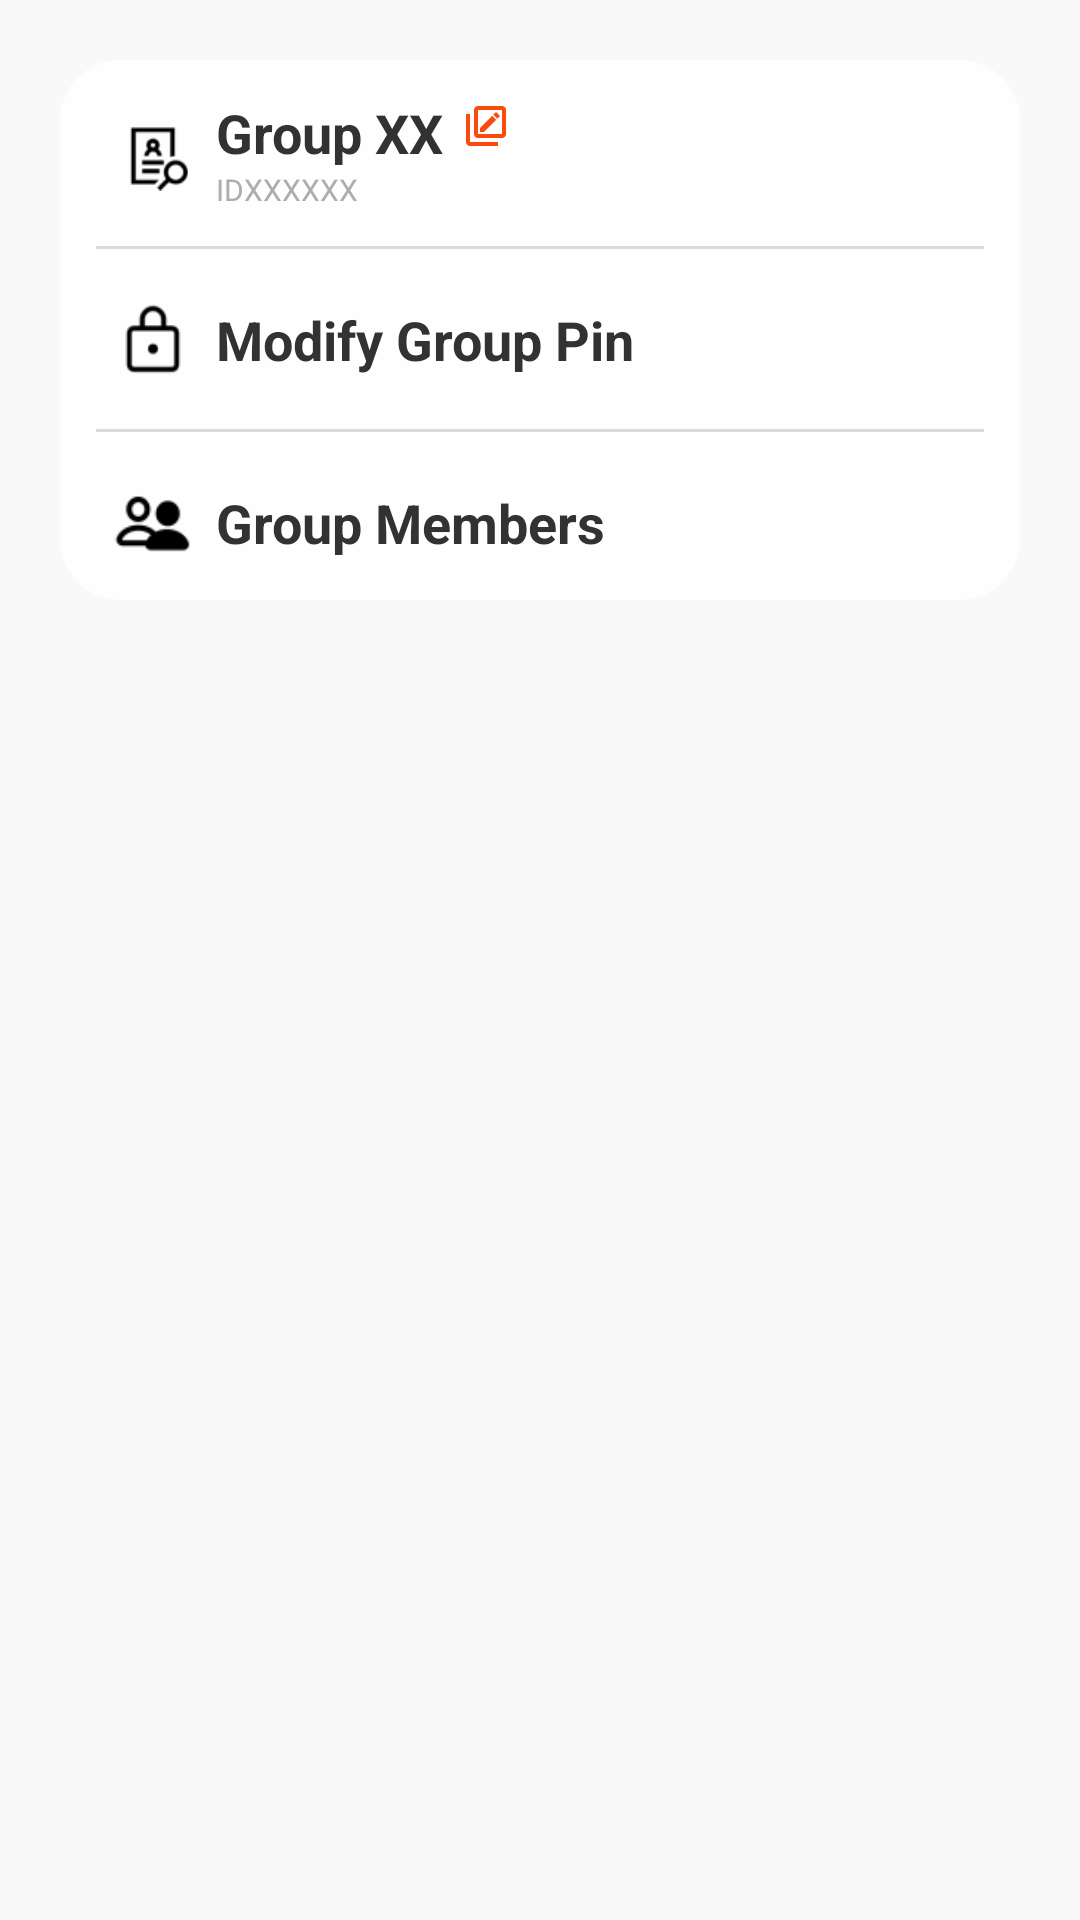

Named icons in this screenshot (1080px×1920px) and their bounding boxes, (x1, y1, x2, y2):
lock: (125, 305, 181, 373)
pencil box: (466, 106, 506, 146)
search account: (130, 127, 188, 191)
